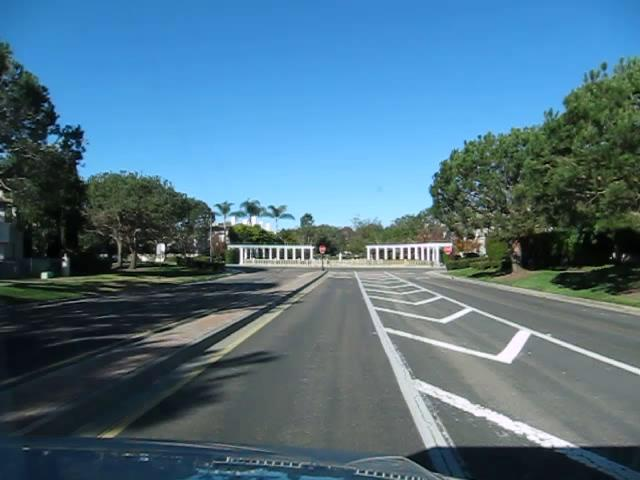stop: (443, 243, 452, 253)
